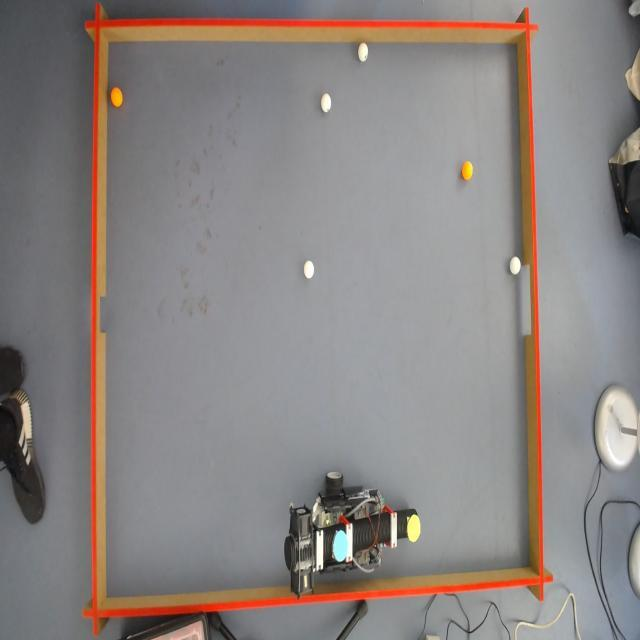orange: (112, 87, 124, 107)
robot: (284, 471, 421, 596)
robot-front: (406, 516, 424, 543)
robot-rear: (331, 529, 348, 563)
white: (319, 92, 332, 114), (508, 257, 522, 276), (357, 43, 370, 63), (304, 260, 314, 279), (463, 163, 473, 180)
